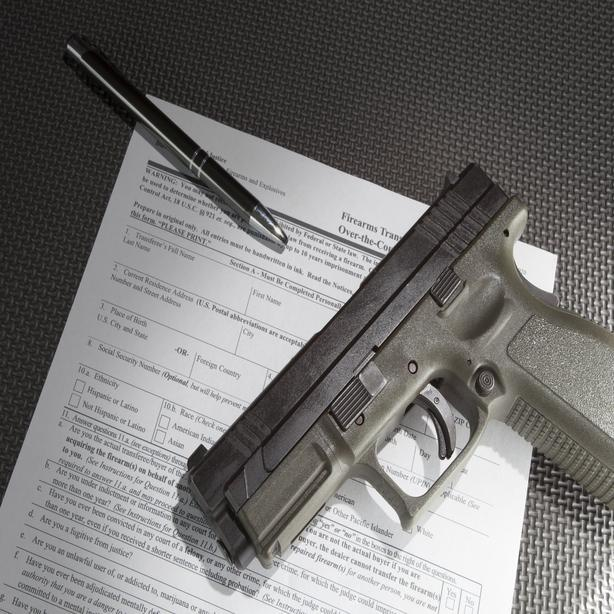Firearm: (125, 144, 614, 571)
